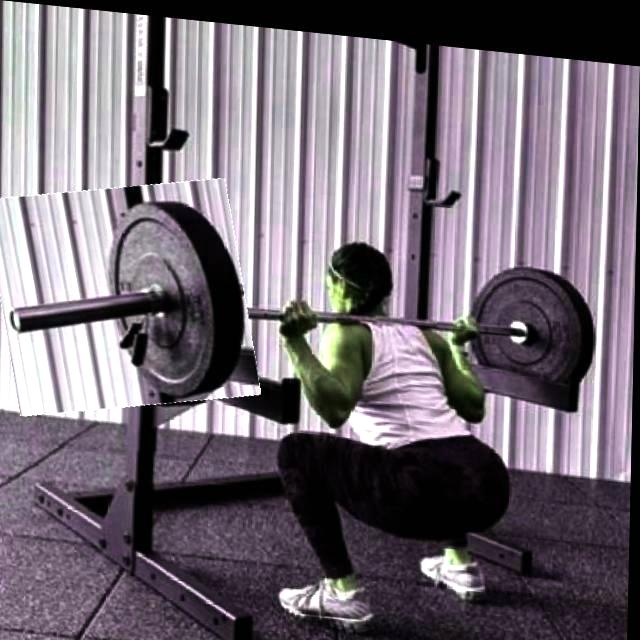barbell: (1, 166, 258, 424)
